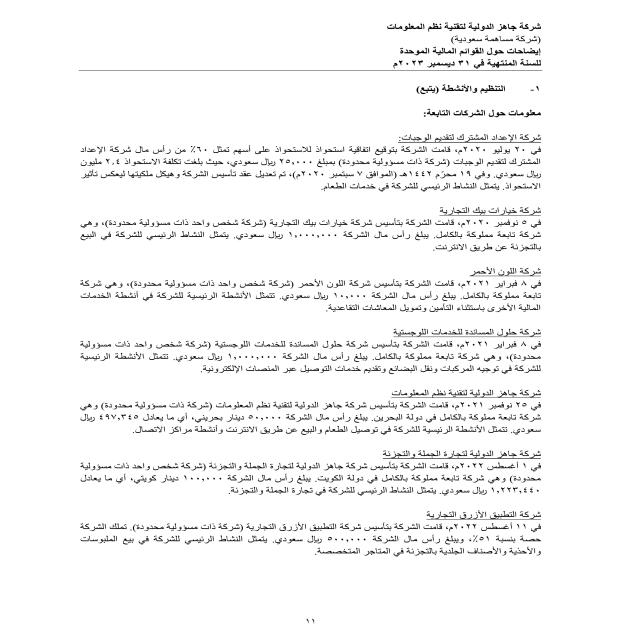notes: (395, 46, 546, 58)
text: (39, 79, 561, 571)
